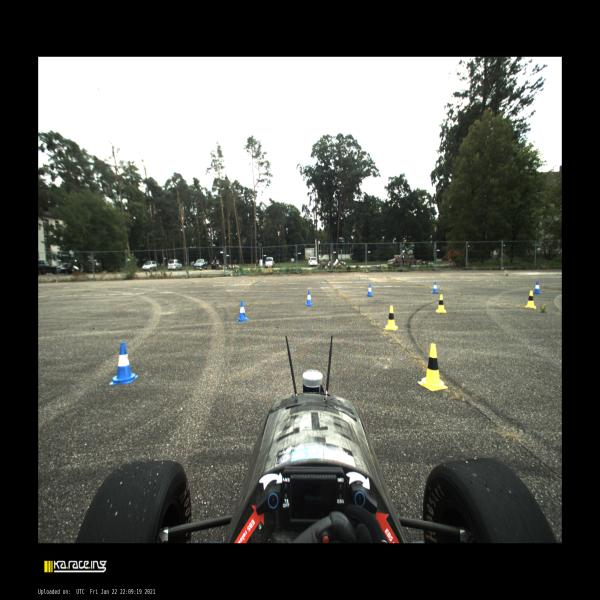blue_cone: (109, 342, 138, 386), (237, 301, 248, 322), (306, 290, 313, 306), (534, 281, 542, 294), (431, 282, 438, 294), (366, 284, 373, 296)
yellow_cone: (418, 343, 448, 391), (384, 306, 398, 330), (525, 290, 536, 308), (436, 294, 446, 313)
